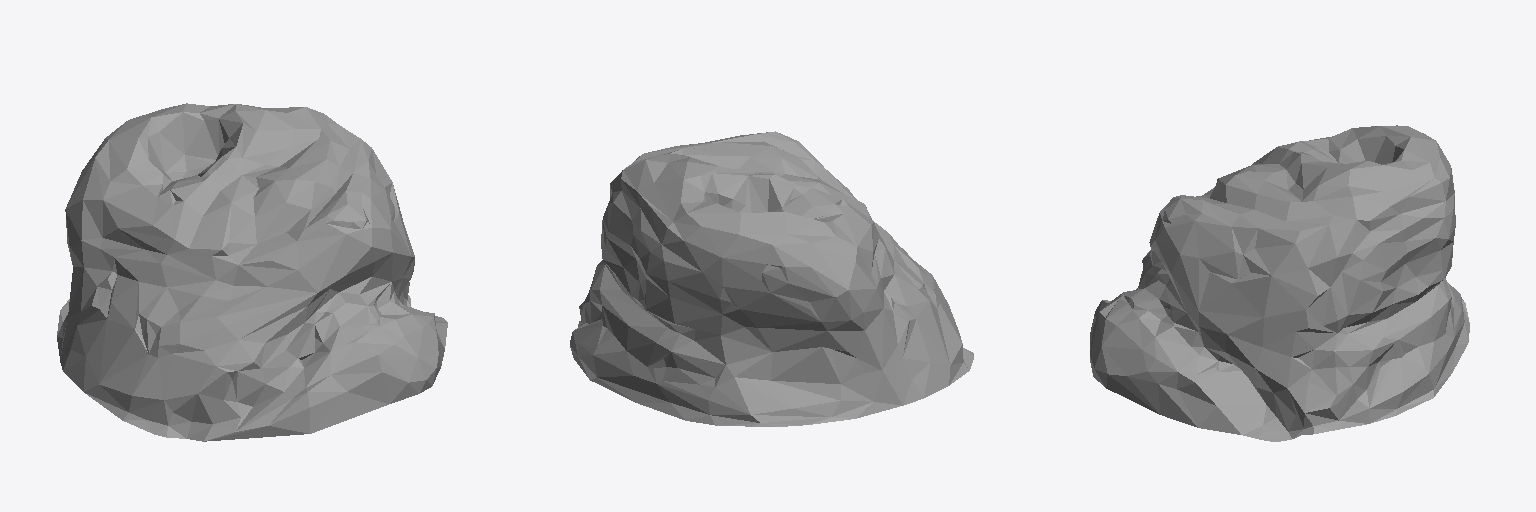
The model's file is Rock2.obj.
The picture shows the model from 3 angles: view 1: azimuth 30°, elevation 25°; view 2: azimuth 150°, elevation 25°; view 3: azimuth 270°, elevation 25°; orthographic projection.
Parts seen in each view (by area): view 1: Icosphere.002; view 2: Icosphere.002; view 3: Icosphere.002.
Part boxes in pixels (x1,y1,x2,y2): Icosphere.002: (57, 103, 447, 441); Icosphere.002: (570, 131, 973, 426); Icosphere.002: (1090, 125, 1469, 441).
Size of the model in its own units: 151 by 88.87 by 141.